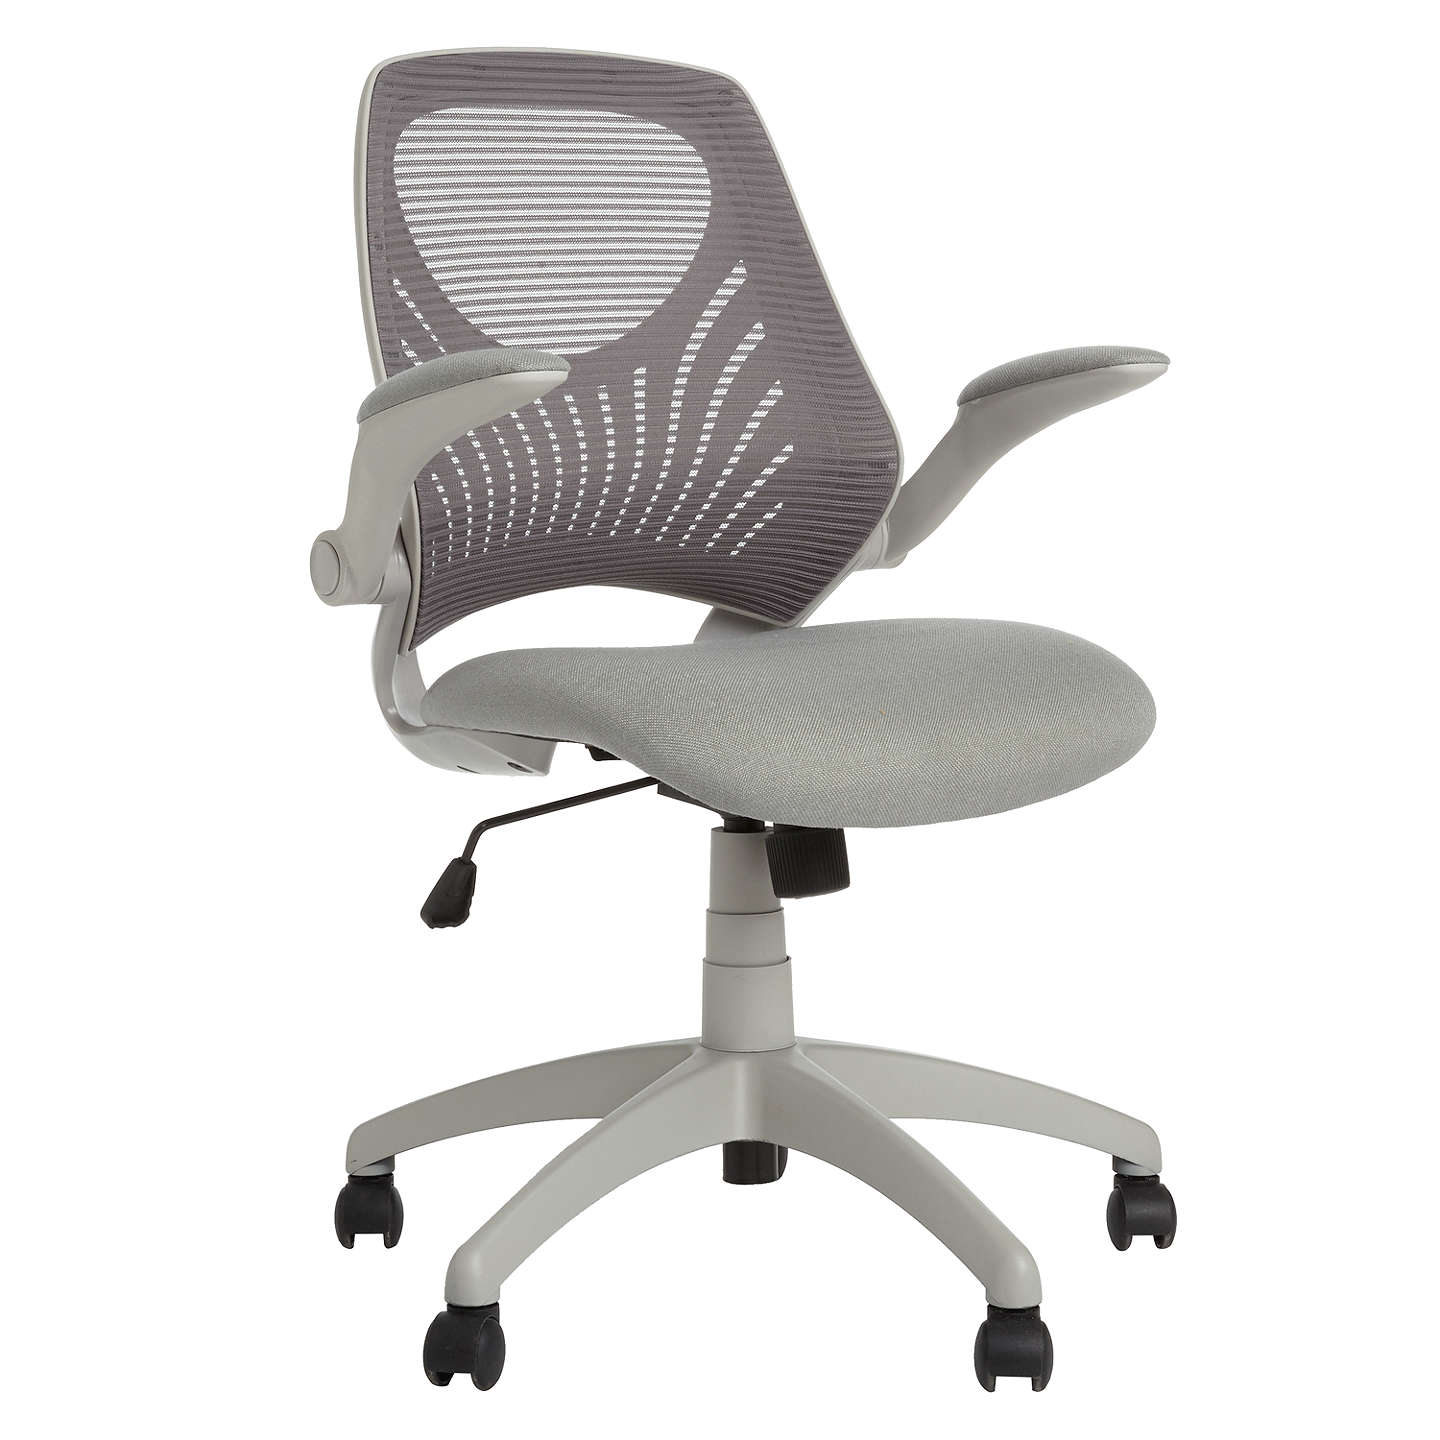chairs: (237, 25, 1218, 1407)
